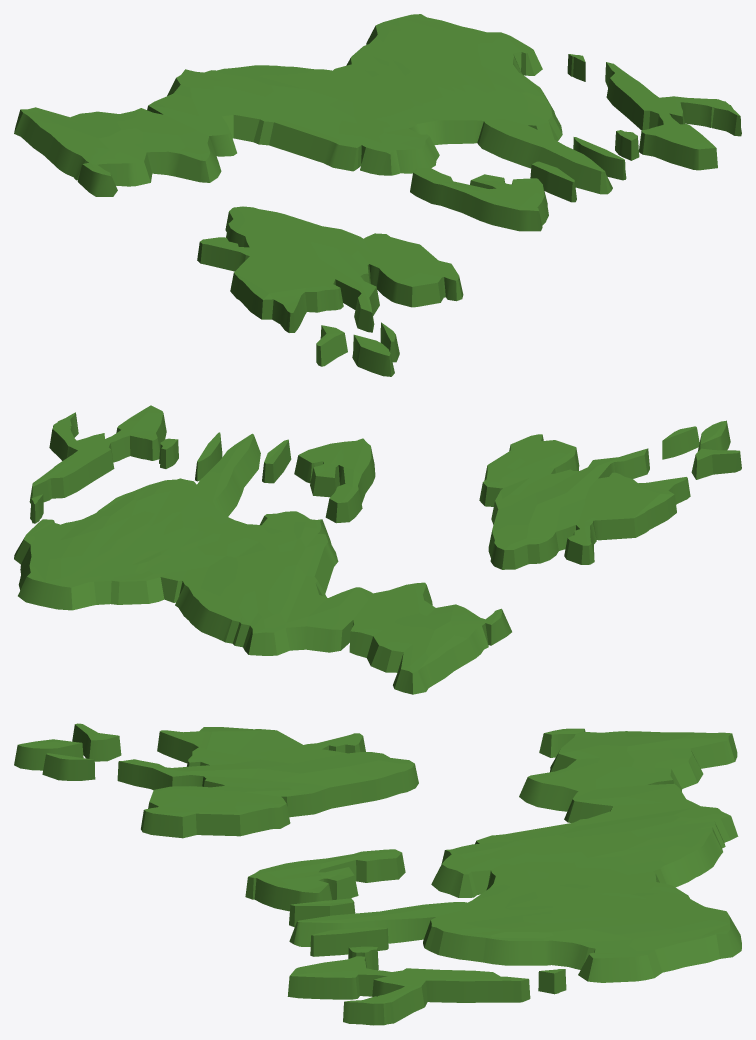
Rendered from grass_layer_block_E.fbx.
3 views of the same model, one above another, from view 1: azimuth 30°, elevation 25°; view 2: azimuth 150°, elevation 25°; view 3: azimuth 270°, elevation 25° (orthographic). The views are drawn at different scales.
Visible parts, largest first — view 1: grass_layer_block_E_A, grass_layer_block_E_B, grass_layer_block_E_C, grass_layer_block_E_D, grass_layer_block_E_G, grass_layer_block_E_F, grass_layer_block_E_E, grass_layer_block_E_I, grass_layer_block_E_K; view 2: grass_layer_block_E_A, grass_layer_block_E_B, grass_layer_block_E_C, grass_layer_block_E_D, grass_layer_block_E_I, grass_layer_block_E_J, grass_layer_block_E_F, grass_layer_block_E_G, grass_layer_block_E_E, grass_layer_block_E_K; view 3: grass_layer_block_E_A, grass_layer_block_E_B, grass_layer_block_E_C, grass_layer_block_E_D, grass_layer_block_E_E, grass_layer_block_E_G, grass_layer_block_E_I, grass_layer_block_E_J, grass_layer_block_E_F, grass_layer_block_E_L.
Boxes of the visible parts, x1,y1,x2,y2 form: grass_layer_block_E_A: (14, 14, 612, 196); grass_layer_block_E_B: (197, 206, 463, 332); grass_layer_block_E_C: (605, 62, 741, 170); grass_layer_block_E_D: (410, 167, 548, 231); grass_layer_block_E_G: (352, 334, 394, 376); grass_layer_block_E_F: (530, 161, 576, 202); grass_layer_block_E_E: (573, 137, 626, 180); grass_layer_block_E_I: (316, 325, 347, 366); grass_layer_block_E_K: (615, 130, 639, 160); grass_layer_block_E_A: (14, 433, 511, 694); grass_layer_block_E_B: (479, 434, 690, 569); grass_layer_block_E_C: (29, 405, 166, 503); grass_layer_block_E_D: (294, 438, 375, 523); grass_layer_block_E_I: (691, 448, 741, 479); grass_layer_block_E_J: (662, 426, 699, 459); grass_layer_block_E_F: (262, 439, 291, 483); grass_layer_block_E_G: (697, 420, 730, 451); grass_layer_block_E_E: (195, 432, 222, 481); grass_layer_block_E_K: (159, 438, 178, 468); grass_layer_block_E_A: (289, 728, 741, 982); grass_layer_block_E_B: (117, 727, 418, 838); grass_layer_block_E_C: (287, 956, 530, 1025); grass_layer_block_E_D: (245, 849, 405, 911); grass_layer_block_E_E: (310, 927, 388, 956); grass_layer_block_E_G: (14, 739, 83, 770); grass_layer_block_E_I: (72, 723, 121, 761); grass_layer_block_E_J: (42, 753, 95, 780); grass_layer_block_E_F: (289, 898, 355, 927); grass_layer_block_E_L: (538, 969, 566, 994).
Size of the model in its own units: 1713 by 60.31 by 1868.
